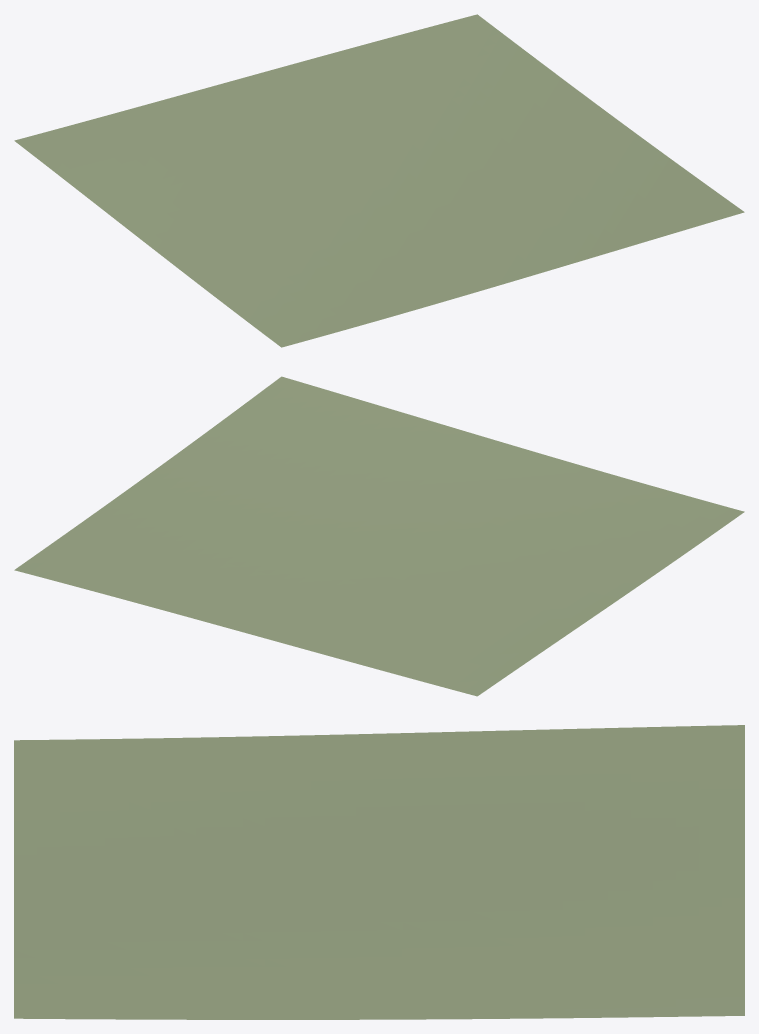
File: expanse-9-3.glb
3 renders of one model, top to bottom at view 1: azimuth 30°, elevation 25°; view 2: azimuth 150°, elevation 25°; view 3: azimuth 270°, elevation 25°, orthographic. The views are drawn at different scales.
Parts seen in each view (by area): view 1: expanse-9-3; view 2: expanse-9-3; view 3: expanse-9-3.
Part boxes in pixels (<box>): expanse-9-3: <box>14,14,744,347</box>; expanse-9-3: <box>14,376,744,696</box>; expanse-9-3: <box>14,725,744,1019</box>.
Bounding box in the file's own units: 256 × 12.86 × 256.
